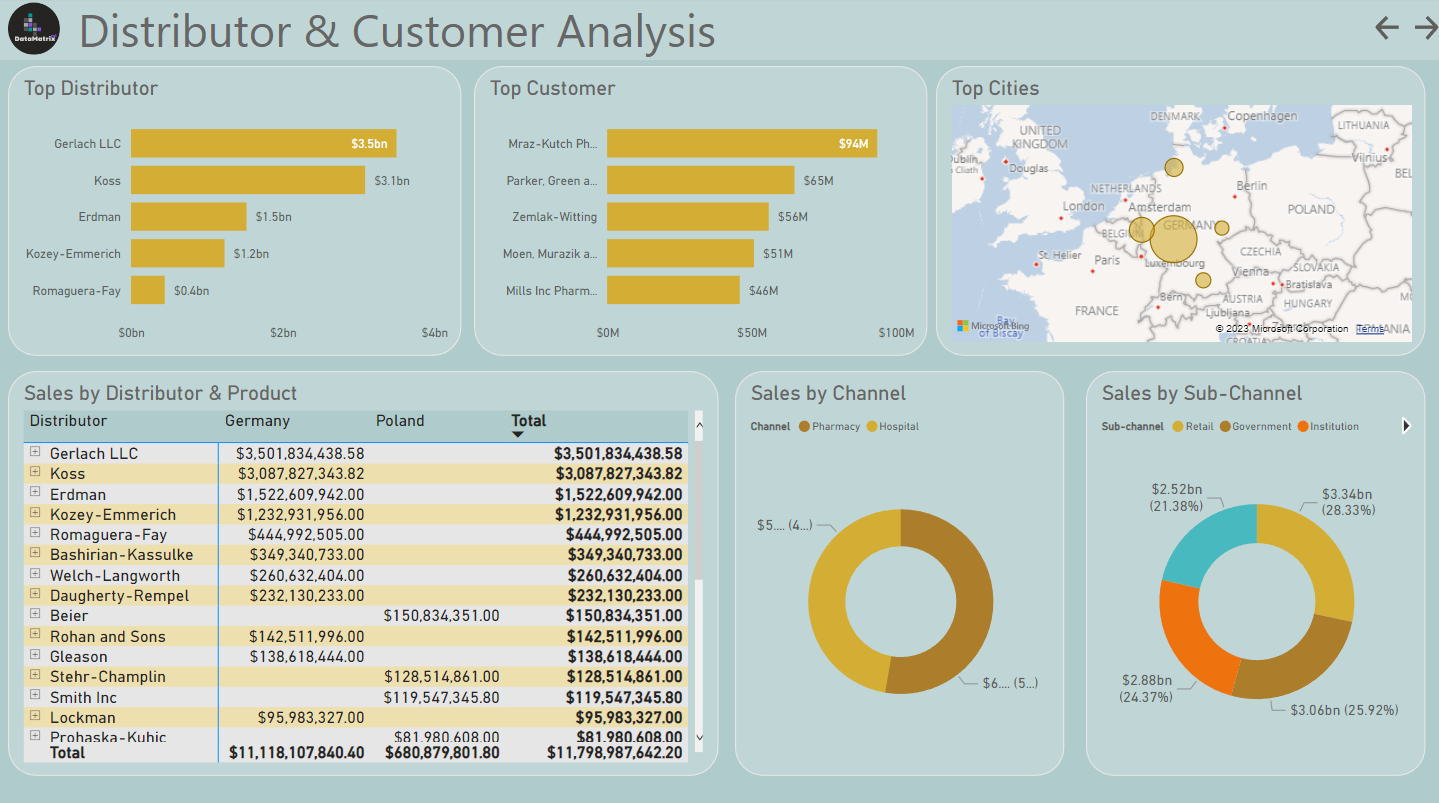

The dashboard page shown, as its layout file describes it:
{"tool":"powerbi","page":{"name":"Distributor & Customer Analysis","canvas":[1280,720],"ordinal":2},"visuals":[{"type":"shape","box":[0,0,1280.4,55.9],"z":0},{"type":"barChart","title":"Top Distributor","fields":{"Y":["Sum(FACT-sales.Sales)"],"Category":["DIM-distributor.Distributor"]},"box":[8,61.2,401.7,257.1],"z":2000},{"type":"actionButton","box":[1216.6,12.4,33.7,30.1],"z":3000},{"type":"pivotTable","title":"Sales by Distributor & Product","fields":{"Columns":["DIM-country.Country"],"Values":["Sum(FACT-sales.Sales)"],"Rows":["DIM-distributor.Distributor","DIM-product.Product Class","DIM-product.Product Name"]},"box":[8,331.6,629.6,359.1],"z":4000},{"type":"actionButton","box":[1250.2,12.4,30.1,30.1],"z":5000},{"type":"barChart","title":"Top Customer","fields":{"Y":["Sum(FACT-sales.Sales)"],"Category":["DIM-customer.Customer Name"]},"box":[421.2,61.2,401.7,257.1],"z":6000},{"type":"donutChart","title":"Sales by Channel","fields":{"Y":["Sum(FACT-sales.Sales)"],"Category":["DIM-channel.Channel"]},"box":[652.6,331.6,291.7,359.1],"z":7000},{"type":"donutChart","title":"Sales by Sub-Channel","fields":{"Y":["Sum(FACT-sales.Sales)"],"Category":["DIM-subchannel.Sub-channel"]},"box":[963.8,331.6,301.5,359.1],"z":8000},{"type":"map","title":"Top Cities","fields":{"Category":["DIM-city.City"],"Y":["Avg(DIM-city.Latitude)"],"X":["Avg(DIM-city.Longitude)"],"Size":["Sum(FACT-sales.Sales)"]},"box":[830.8,61.2,434.5,257.1],"z":9000},{"type":"image","box":[0,0,61.2,55.9],"z":9001}]}

Visuals, with their boxes in screenshot pixels (x1, y1, x2, y2), scaled from the page's 1280x720 canvas onto the 1439x803 screenshot:
shape: l=0, t=0, r=1438, b=62
"Top Distributor" barChart: l=9, t=68, r=461, b=355
actionButton: l=1368, t=14, r=1406, b=47
"Sales by Distributor & Product" pivotTable: l=9, t=370, r=717, b=770
actionButton: l=1405, t=14, r=1438, b=47
"Top Customer" barChart: l=474, t=68, r=925, b=355
"Sales by Channel" donutChart: l=734, t=370, r=1062, b=770
"Sales by Sub-Channel" donutChart: l=1084, t=370, r=1422, b=770
"Top Cities" map: l=934, t=68, r=1422, b=355
image: l=0, t=0, r=69, b=62
